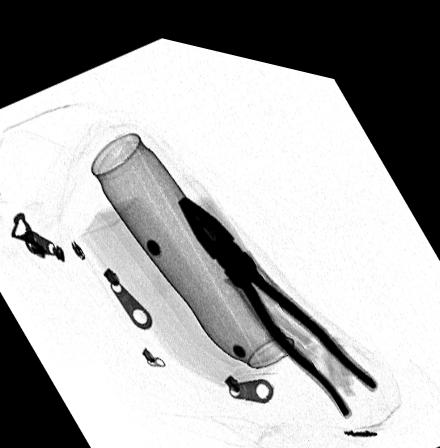Pliers: (174, 185, 379, 398)
